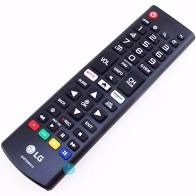remote control: (0, 0, 196, 196)
